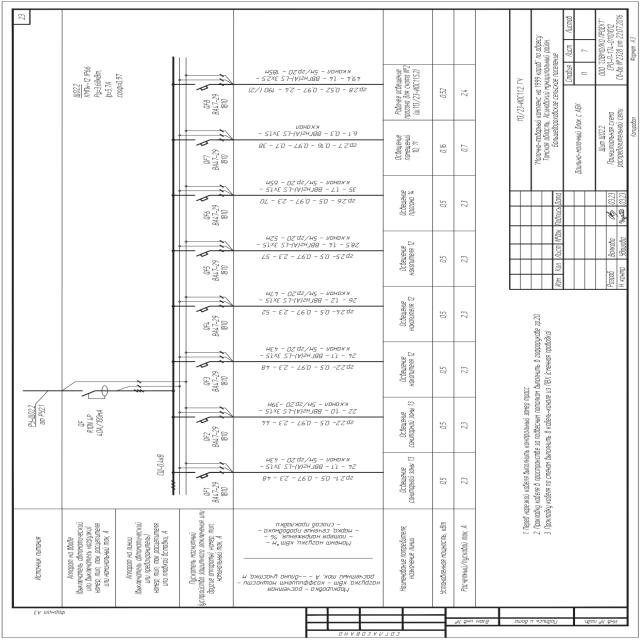-: (84, 407, 106, 438), (211, 259, 229, 283), (212, 369, 230, 393), (211, 203, 229, 227), (212, 426, 230, 450), (211, 315, 229, 339), (212, 148, 230, 171), (210, 481, 228, 504), (211, 92, 229, 115), (82, 64, 92, 99)
QD: (77, 384, 108, 400)
QF: (189, 248, 225, 258), (189, 192, 225, 202), (190, 304, 225, 314), (190, 471, 226, 480), (189, 359, 225, 368), (190, 82, 225, 91), (190, 416, 226, 424), (190, 138, 225, 146)
